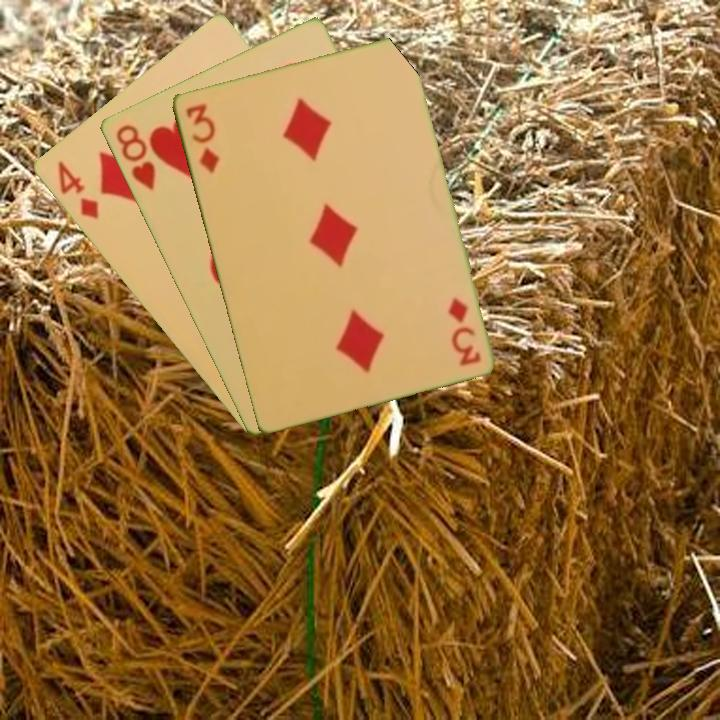3d: (181, 99, 222, 176), (443, 293, 483, 369)
4d: (53, 157, 102, 222)
8h: (112, 120, 158, 193)
